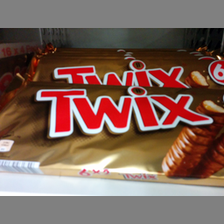chocolate: (1, 80, 224, 188)
